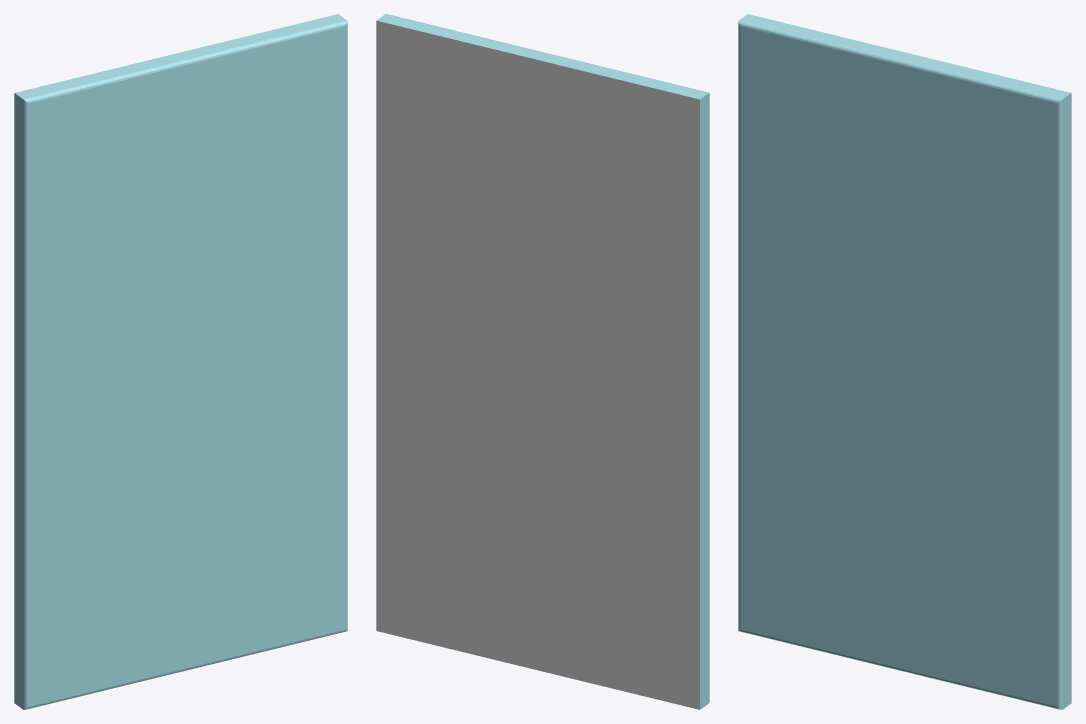
Rendered from mirrorsolo.glb.
3 renders of one model, left to right at view 1: azimuth 30°, elevation 25°; view 2: azimuth 150°, elevation 25°; view 3: azimuth 330°, elevation 25°, orthographic.
Visible parts, largest first — view 1: Cube; view 2: Cube; view 3: Cube.
Part boxes in pixels (x1,y1,x2,y2): Cube: (14,14,347,709); Cube: (376,14,709,709); Cube: (738,14,1071,709).
Bounding box in the file's own units: 86.89 × 157 × 5.
